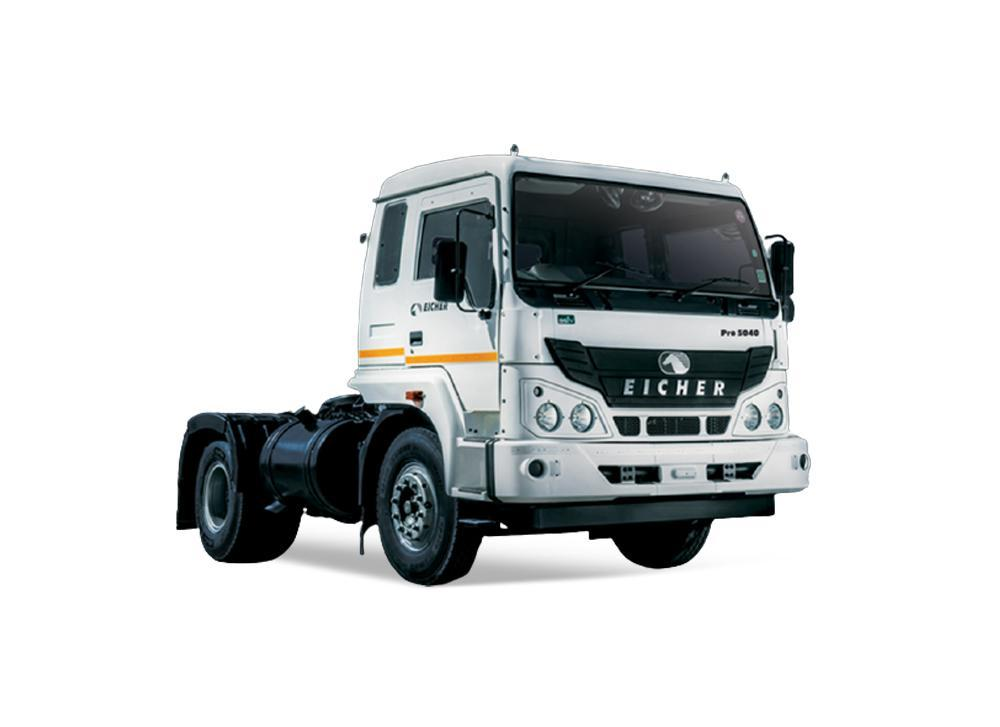truck: (177, 147, 810, 586)
